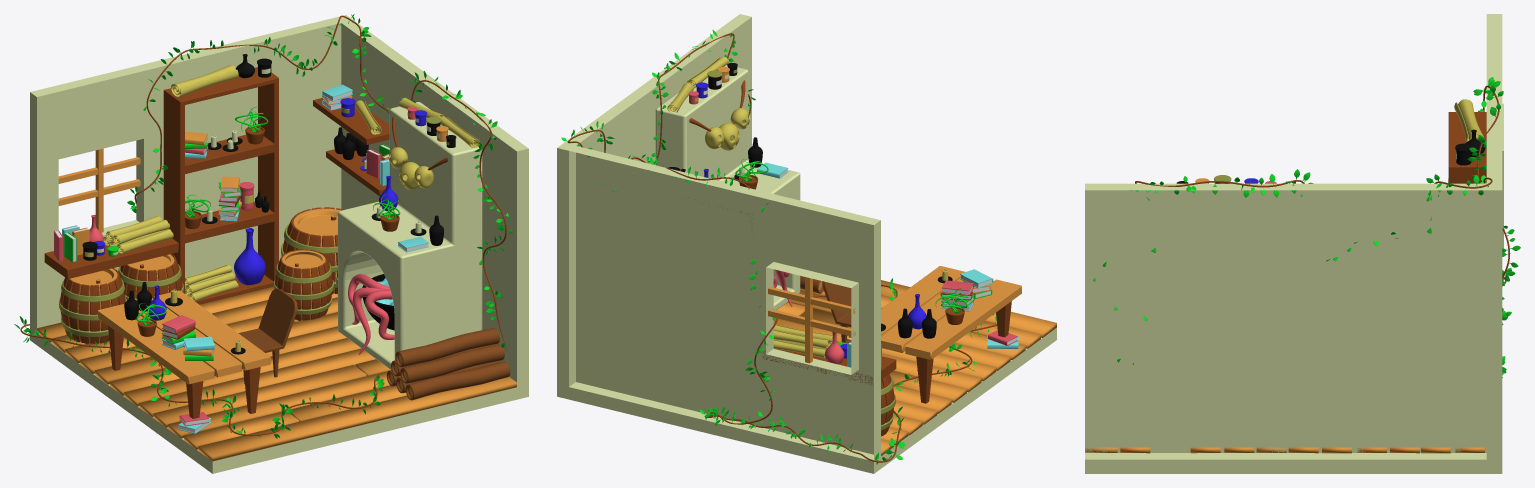
Rendered from Cuisine DA.glb.
The picture shows the model from 3 angles, left to right: view 1: azimuth 30°, elevation 25°; view 2: azimuth 150°, elevation 25°; view 3: azimuth 270°, elevation 25°; orthographic projection. The views are drawn at different scales.
Parts seen in each view (by area): view 1: witch's house.004, witch's house.001, witch's house.003, witch's house.002, witch's house.005, witch's house.015, witch's house.097, witch's house.014, witch's house.012, witch's house.010, witch's house.098, witch's house.007 (+15 smaller); view 2: witch's house.004, witch's house.001, witch's house.003, witch's house.005, witch's house.097, witch's house.098, witch's house.036, witch's house.007, witch's house.014, witch's house.006, witch's house.101, witch's house.103 (+3 smaller); view 3: witch's house.004, witch's house.097, witch's house.001, witch's house.002, witch's house.020.
Part boxes in pixels (x1,y1,x2,y2): witch's house.004: (30, 15, 528, 473); witch's house.001: (37, 286, 516, 461); witch's house.003: (338, 102, 482, 369); witch's house.002: (163, 67, 278, 304); witch's house.005: (97, 290, 270, 418); witch's house.015: (386, 328, 510, 400); witch's house.097: (127, 14, 512, 351); witch's house.014: (59, 268, 126, 343); witch's house.012: (273, 249, 333, 320); witch's house.010: (281, 207, 343, 294); witch's house.098: (14, 316, 384, 438); witch's house.007: (238, 288, 297, 383); witch's house.004: (557, 14, 1056, 473); witch's house.001: (773, 280, 1056, 455); witch's house.003: (655, 65, 800, 310); witch's house.005: (849, 266, 1021, 403); witch's house.097: (561, 30, 777, 427); witch's house.098: (705, 278, 997, 464); witch's house.036: (773, 325, 837, 358); witch's house.007: (822, 281, 881, 343); witch's house.014: (881, 374, 895, 436); witch's house.006: (762, 349, 896, 385); witch's house.101: (705, 108, 749, 149); witch's house.103: (768, 287, 855, 314); witch's house.004: (1085, 14, 1503, 473); witch's house.097: (1093, 77, 1520, 377); witch's house.001: (1085, 447, 1484, 453); witch's house.002: (1448, 112, 1486, 183); witch's house.020: (1454, 99, 1483, 143).
Size of the model in its own units: 4.26 by 3.19 by 4.18.
